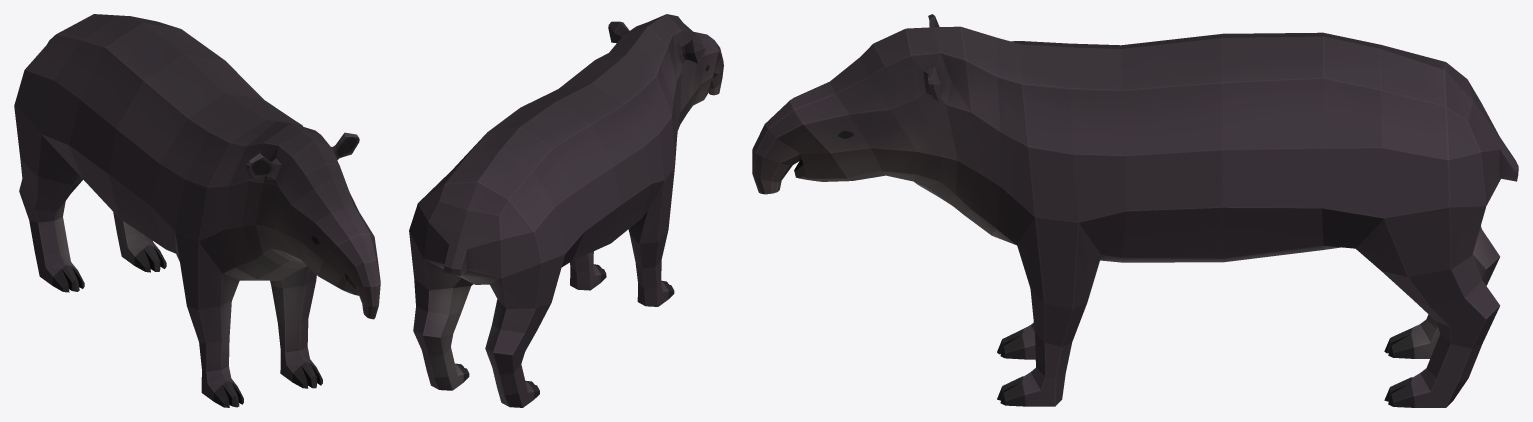
The model's file is tapir.glb.
3 renders of one model, left to right at view 1: azimuth 30°, elevation 25°; view 2: azimuth 150°, elevation 25°; view 3: azimuth 270°, elevation 25°, orthographic. The views are drawn at different scales.
Parts seen in each view (by area): view 1: node-0; view 2: node-0; view 3: node-0.
Boxes of the visible parts, left/top/right/bottom form: node-0: left=14, top=14, right=380, bottom=407; node-0: left=409, top=14, right=723, bottom=407; node-0: left=752, top=14, right=1518, bottom=407.
Size of the model in its own units: 1.9 by 3.33 by 6.63.
1 material, 1 textured.
